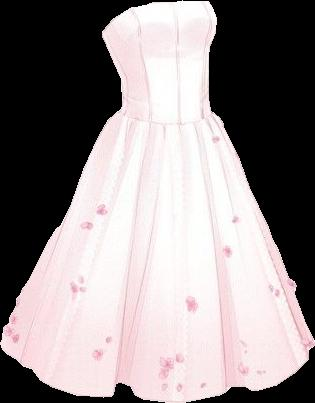Bodice: (102, 1, 216, 124)
Hemline: (2, 344, 314, 402)
Neckline: (101, 0, 210, 36)
Skirt: (0, 110, 314, 402)
Waistline: (118, 108, 216, 127)
